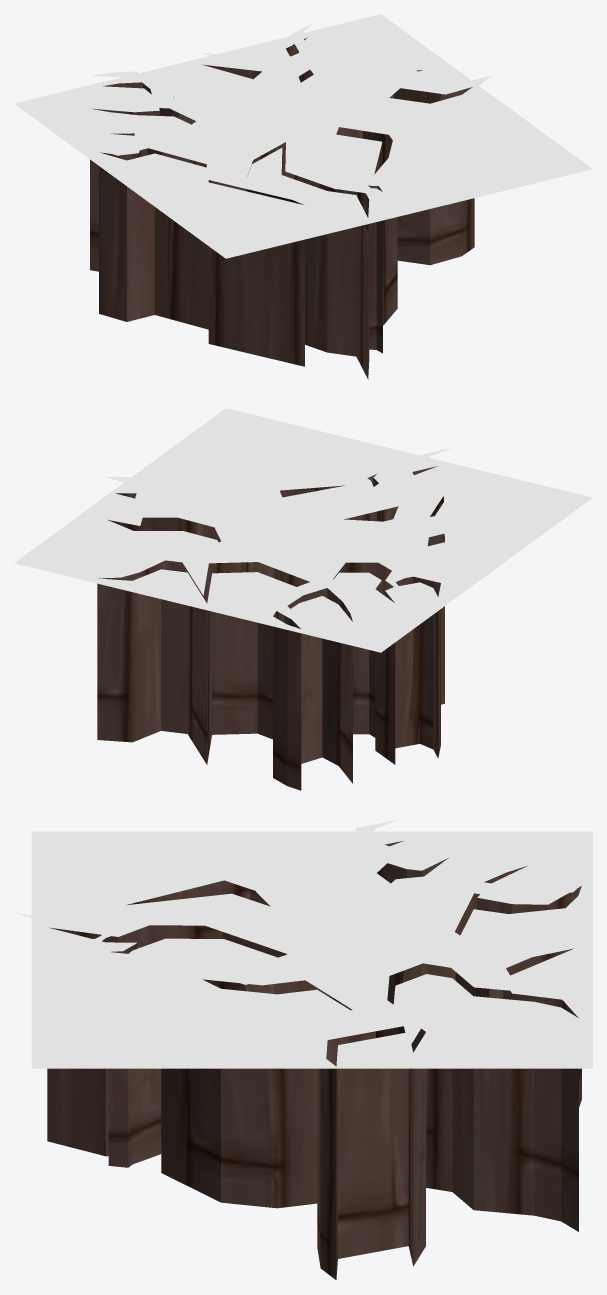
Rendered from crater2.fbx.
3 renders of one model, top to bottom at view 1: azimuth 30°, elevation 25°; view 2: azimuth 150°, elevation 25°; view 3: azimuth 270°, elevation 25°, orthographic. The views are drawn at different scales.
Visible parts, largest first — view 1: polySurface3, polySurface2, polySurface1.001; view 2: polySurface2, polySurface3, polySurface1.001; view 3: polySurface3, polySurface2, polySurface1.001.
Boxes of the visible parts, bbox=[...] form: polySurface3: bbox=[14, 14, 592, 258]; polySurface2: bbox=[90, 37, 474, 379]; polySurface1.001: bbox=[80, 23, 492, 217]; polySurface2: bbox=[97, 466, 444, 790]; polySurface3: bbox=[14, 408, 592, 652]; polySurface1.001: bbox=[86, 448, 460, 623]; polySurface3: bbox=[31, 831, 592, 1068]; polySurface2: bbox=[47, 841, 581, 1279]; polySurface1.001: bbox=[16, 820, 590, 1062].
Bounding box in the file's own units: 191 × 82.65 × 191.
